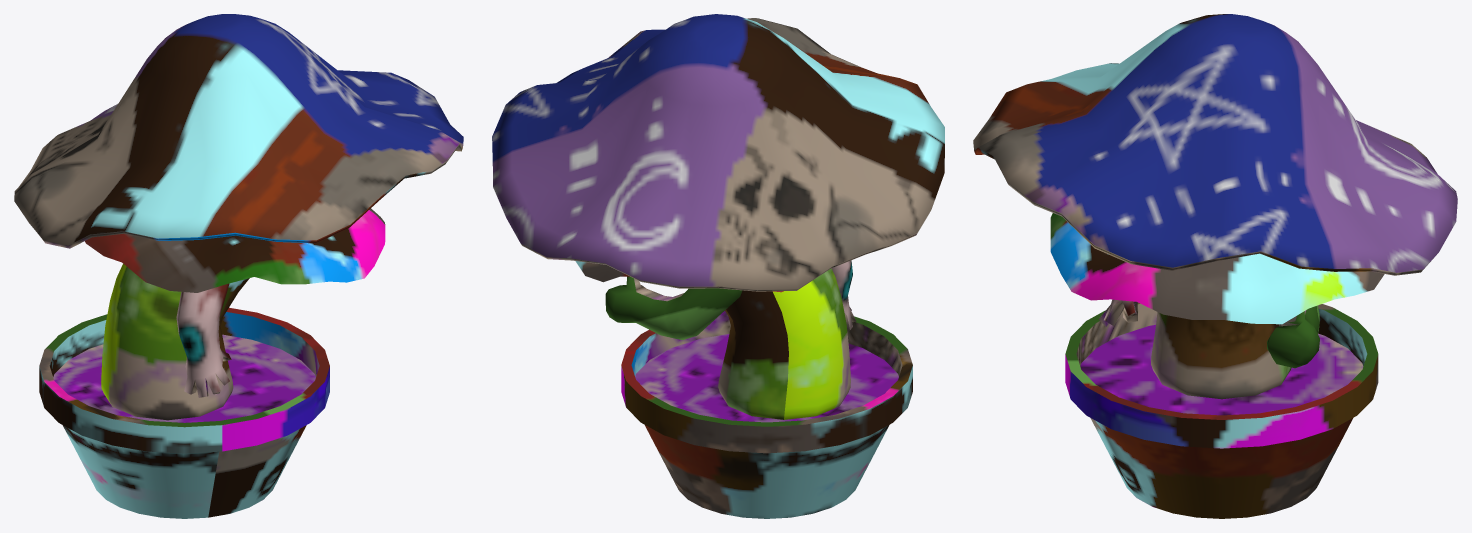
File: SM_Mushroomguy.fbx
The picture shows the model from 3 angles, left to right: view 1: azimuth 30°, elevation 25°; view 2: azimuth 150°, elevation 25°; view 3: azimuth 270°, elevation 25°; orthographic projection. The views are drawn at different scales.
Parts seen in each view (by area): view 1: pot001; view 2: pot001; view 3: pot001.
Boxes of the visible parts, box(x1,y1,x2,y2) form: pot001: box(14, 14, 463, 518); pot001: box(492, 14, 944, 518); pot001: box(973, 14, 1457, 518).
Size of the model in its own units: 27.6 by 29.75 by 27.31.
